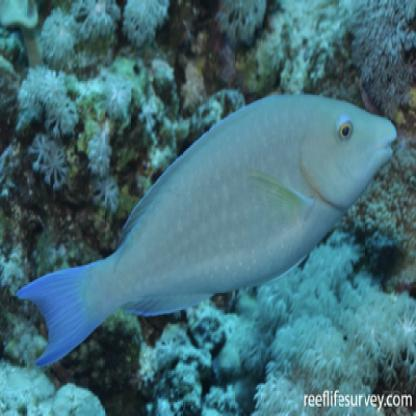parrot: (14, 80, 398, 372)
